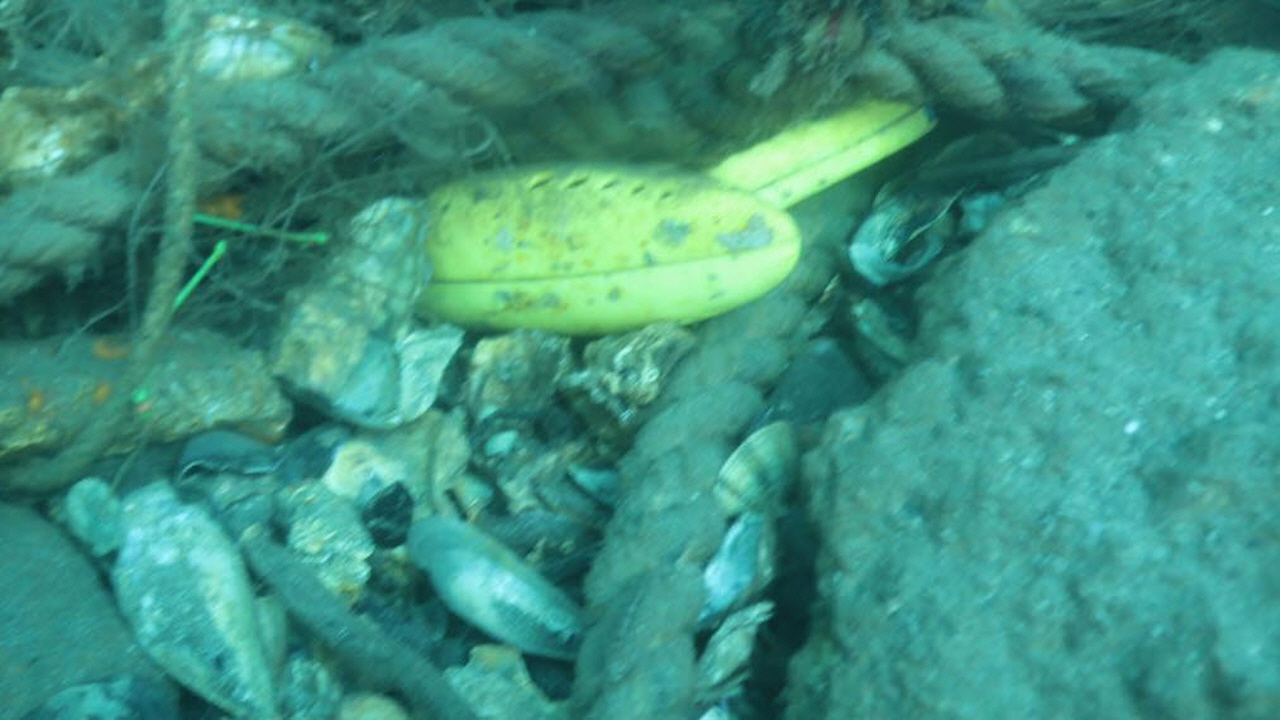bundle of ropes: (0, 0, 1181, 720)
